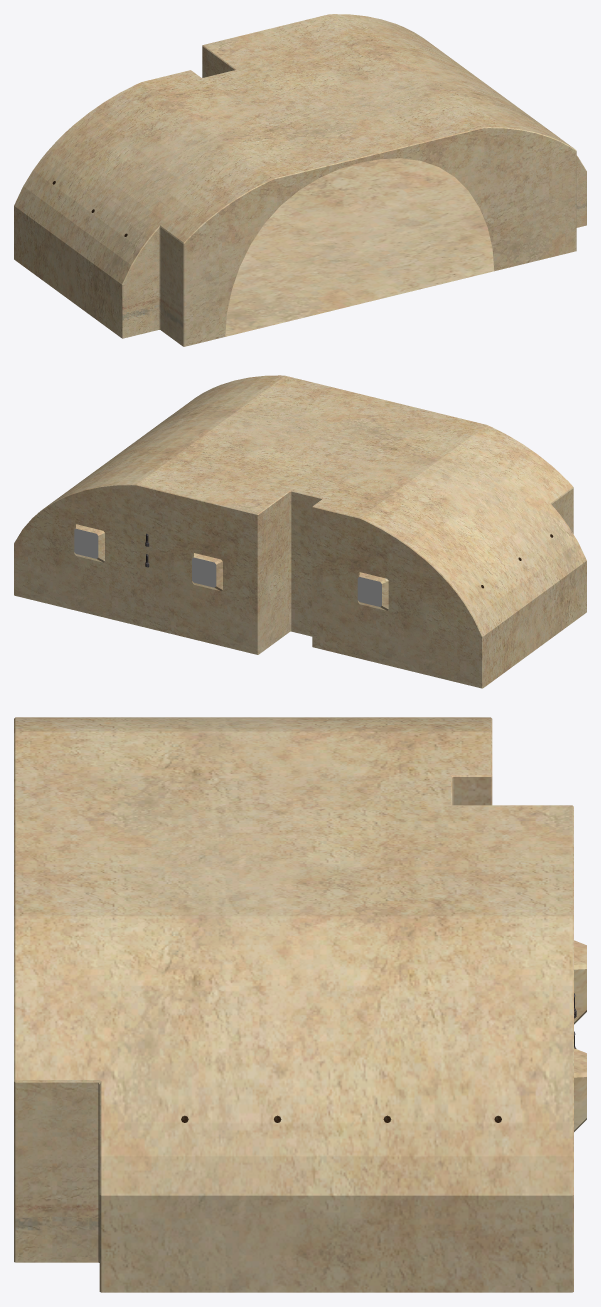
The model's file is thm_tato_cantina_r6_alcove3_mesh_r6.fbx.
3 renders of one model, top to bottom at view 1: azimuth 30°, elevation 25°; view 2: azimuth 150°, elevation 25°; view 3: azimuth 270°, elevation 25°, orthographic. The views are drawn at different scales.
Parts seen in each view (by area): view 1: mesh_node; view 2: mesh_node; view 3: mesh_node.
Part boxes in pixels (x1,y1,x2,y2): mesh_node: (14, 14, 586, 346); mesh_node: (14, 375, 586, 688); mesh_node: (14, 717, 586, 1292).
Size of the model in its own units: 13.82 by 4.15 by 8.17.
